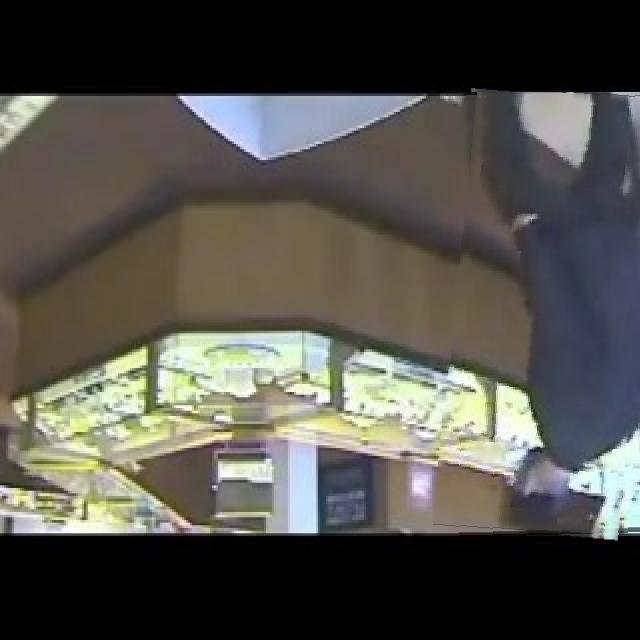normal: (442, 92, 640, 538)
